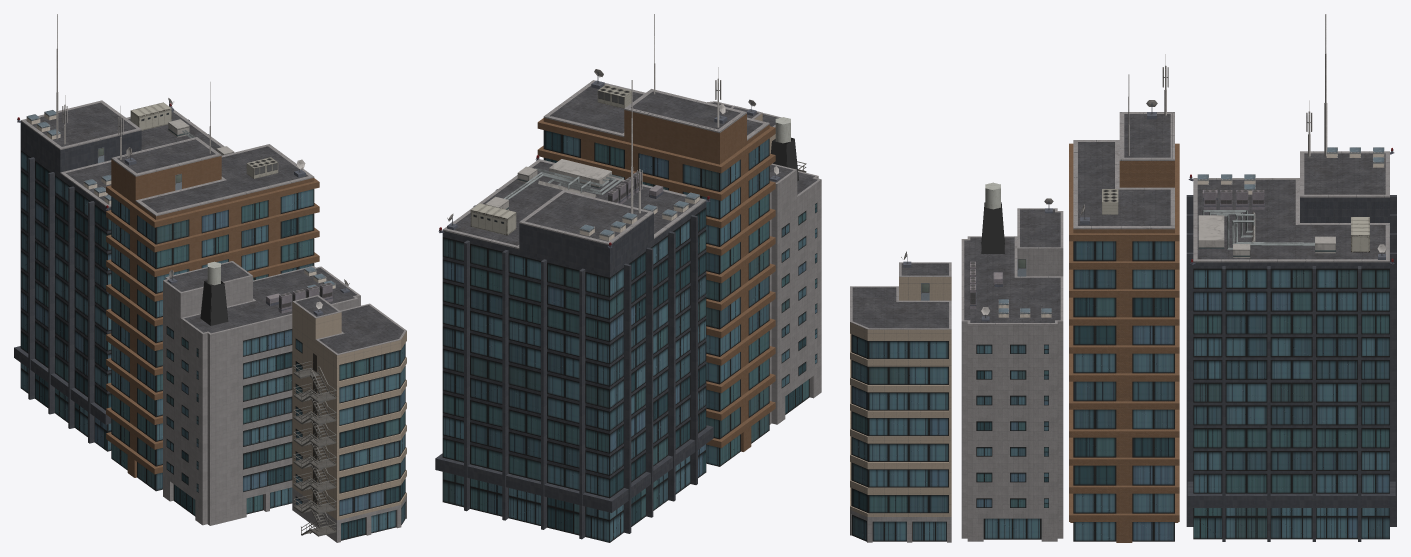
File: buildSetI.FBX
3 renders of one model, left to right at view 1: azimuth 30°, elevation 25°; view 2: azimuth 150°, elevation 25°; view 3: azimuth 270°, elevation 25°, orthographic. The views are drawn at different scales.
Parts seen in each view (by area): view 1: buildSetI; view 2: buildSetI; view 3: buildSetI.
Boxes of the visible parts, left/top/right/bottom form: buildSetI: left=14, top=14, right=406, bottom=542; buildSetI: left=435, top=14, right=821, bottom=542; buildSetI: left=850, top=14, right=1396, bottom=542.
Size of what is drawn, in the model's own units: 916 by 2313 by 2089.
